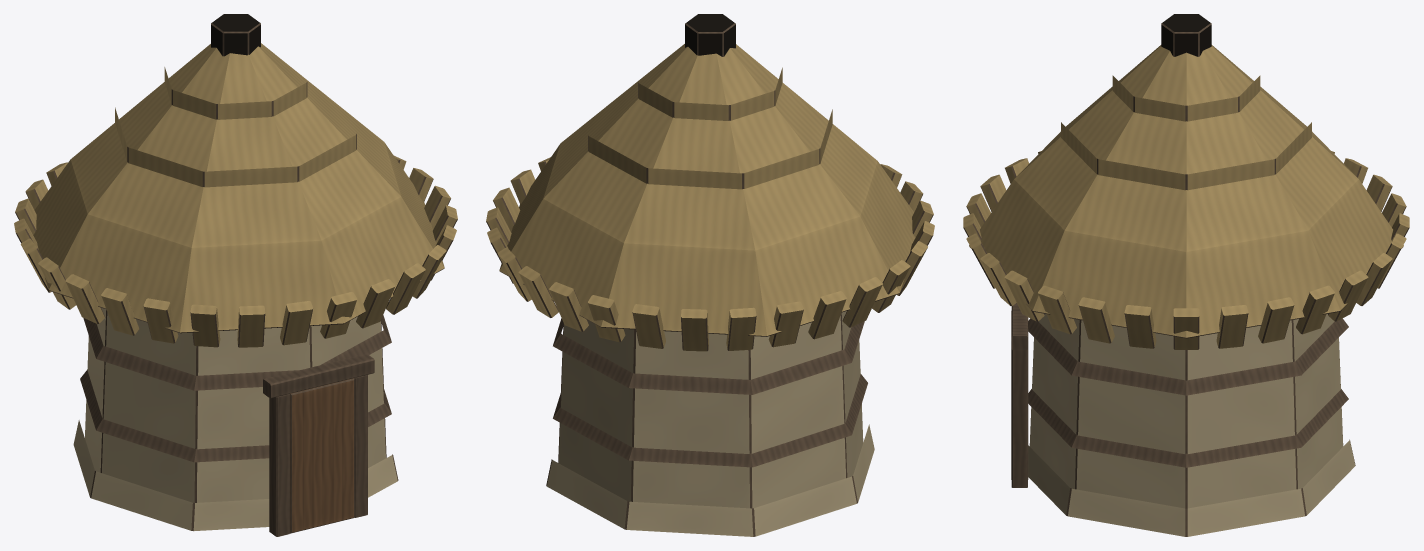
Rendered from hut.glb.
3 renders of one model, left to right at view 1: azimuth 30°, elevation 25°; view 2: azimuth 150°, elevation 25°; view 3: azimuth 270°, elevation 25°, orthographic.
Parts seen in each view (by area): view 1: hut; view 2: hut; view 3: hut.
Part boxes in pixels (x1,y1,x2,y2): hut: [14, 14, 457, 536]; hut: [486, 14, 934, 536]; hut: [963, 14, 1409, 536].
Size of the model in its own units: 0.7771 by 0.85 by 0.7771.
Materials: 1 (1 with a texture image).
